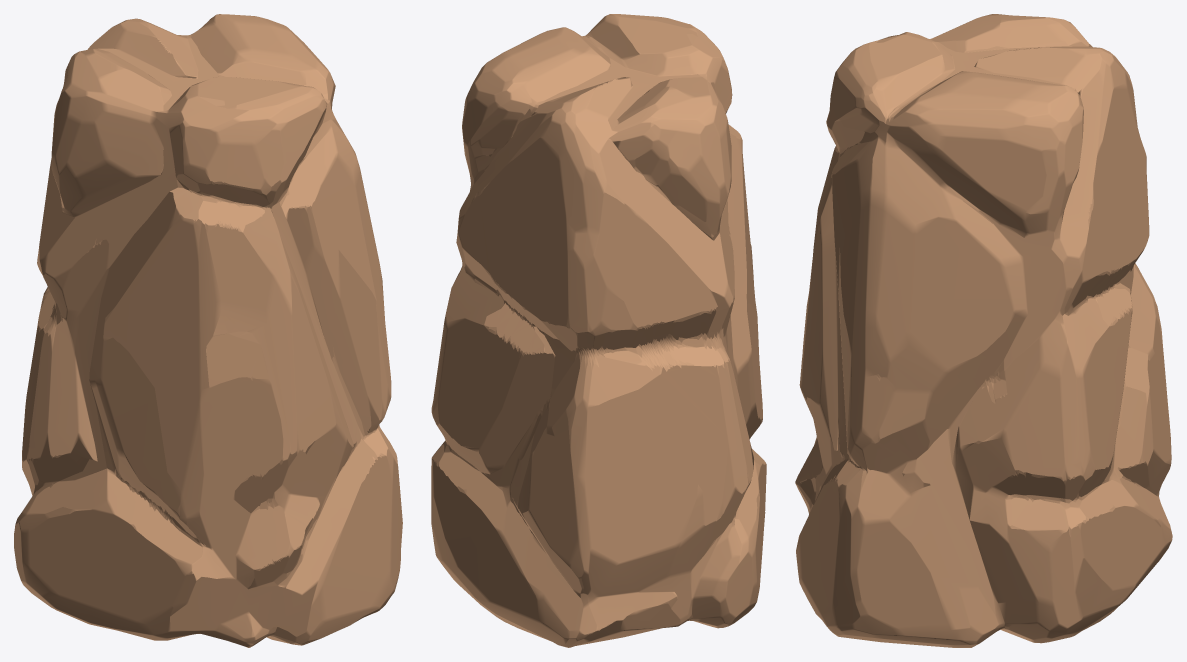
The picture shows the model from 3 angles, left to right: view 1: azimuth 30°, elevation 25°; view 2: azimuth 150°, elevation 25°; view 3: azimuth 270°, elevation 25°; orthographic projection. The views are drawn at different scales.
Visible parts, largest first — view 1: Mesh_78_LOD0; view 2: Mesh_78_LOD0; view 3: Mesh_78_LOD0.
Boxes of the visible parts, x1,y1,x2,y2 form: Mesh_78_LOD0: (14,14,402,647); Mesh_78_LOD0: (431,14,766,647); Mesh_78_LOD0: (795,14,1172,647).
Size of what is drawn, in the model's own units: 1294 by 2147 by 1367.
